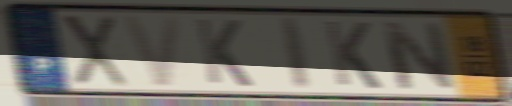I: (278, 16, 315, 93)
K: (192, 16, 256, 90), (321, 18, 385, 92)
N: (377, 19, 460, 92)
V: (119, 13, 184, 90)
X: (57, 12, 131, 89)
